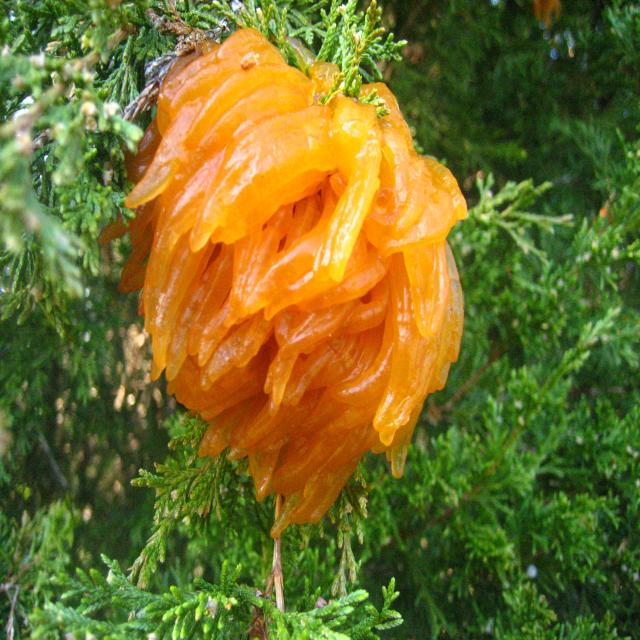Gymnosporangium_Rusts: (102, 25, 470, 542)
